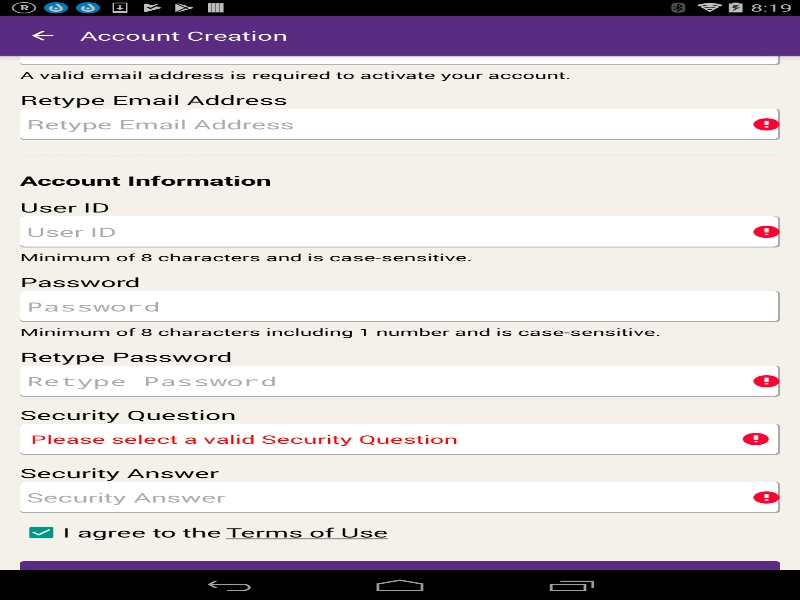Button: (20, 561, 780, 592), (0, 18, 74, 53)
Input: (20, 108, 780, 140), (20, 290, 780, 322), (20, 481, 780, 513), (20, 34, 780, 65), (20, 216, 780, 247), (20, 365, 780, 396)
